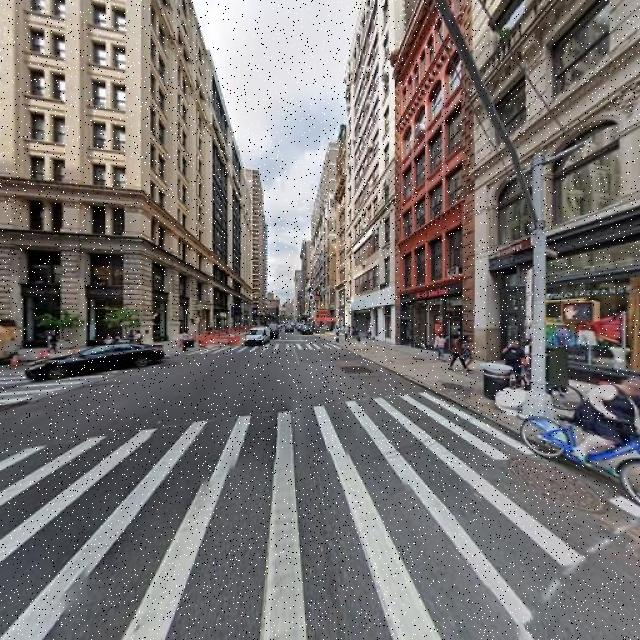Building: (1, 1, 252, 355), (479, 1, 640, 395), (399, 1, 475, 360), (345, 1, 397, 342)
